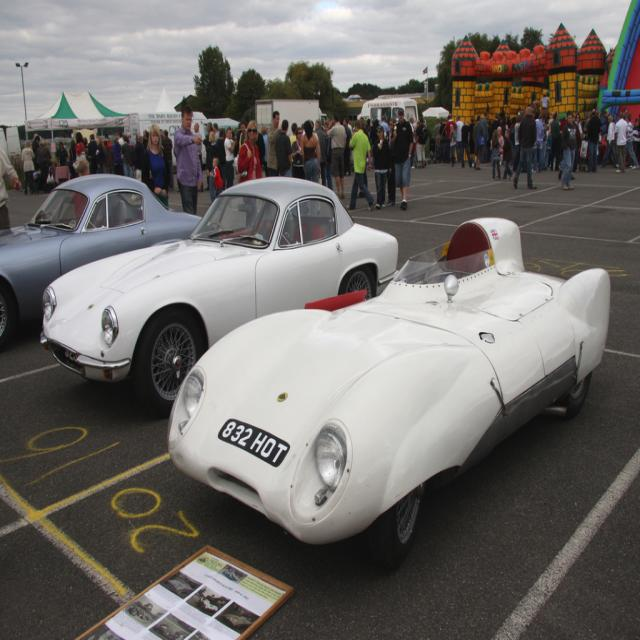car: (164, 216, 610, 564)
